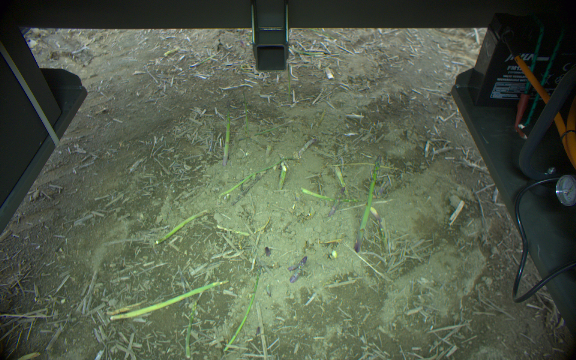aspa: (109, 277, 230, 322), (220, 260, 262, 353), (353, 153, 382, 255), (221, 158, 288, 195), (151, 209, 207, 244), (178, 301, 202, 360), (299, 186, 355, 202), (220, 109, 232, 166), (328, 185, 344, 217), (275, 161, 290, 192), (333, 166, 347, 198), (283, 62, 293, 104), (260, 137, 276, 162)
